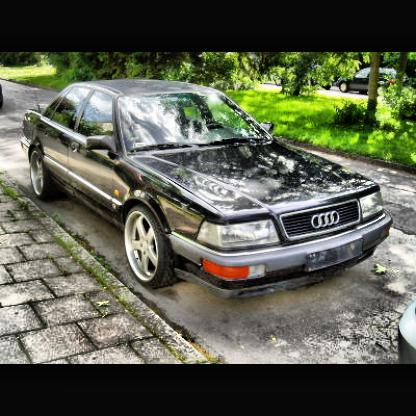Audi V8 Sedan 1994: (23, 77, 391, 306)
